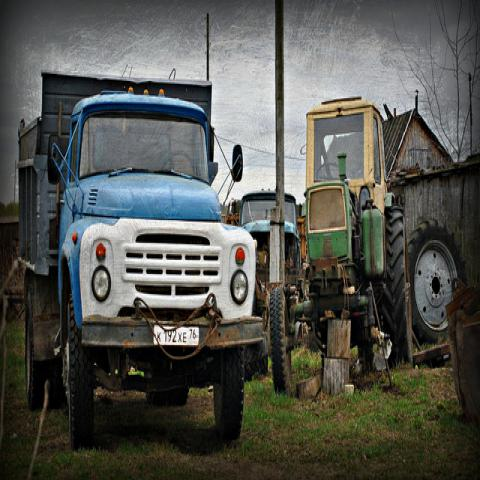truck: (17, 68, 264, 452), (269, 98, 413, 403), (238, 189, 300, 316)
